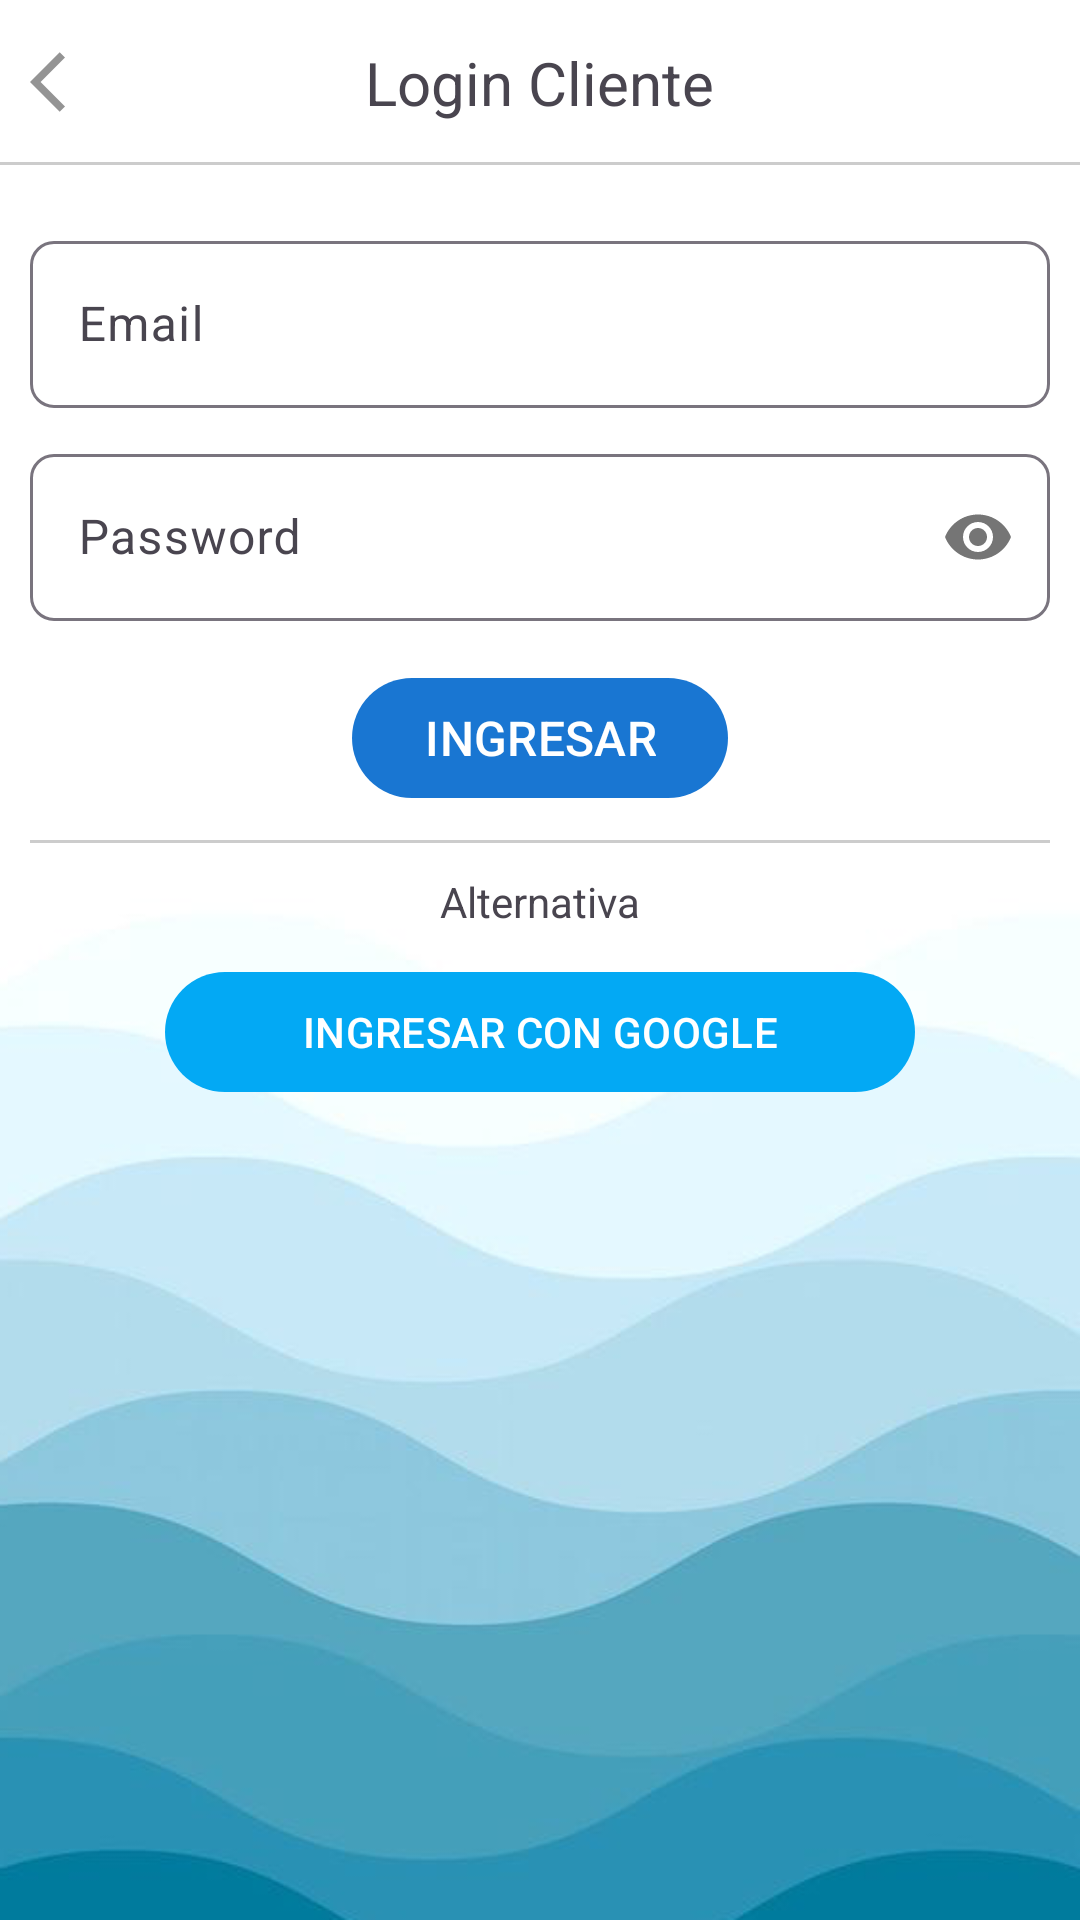

Named icons in this screenshot (1080px x 1920px) and their centers, (x,y):
regresar: (47,82)
